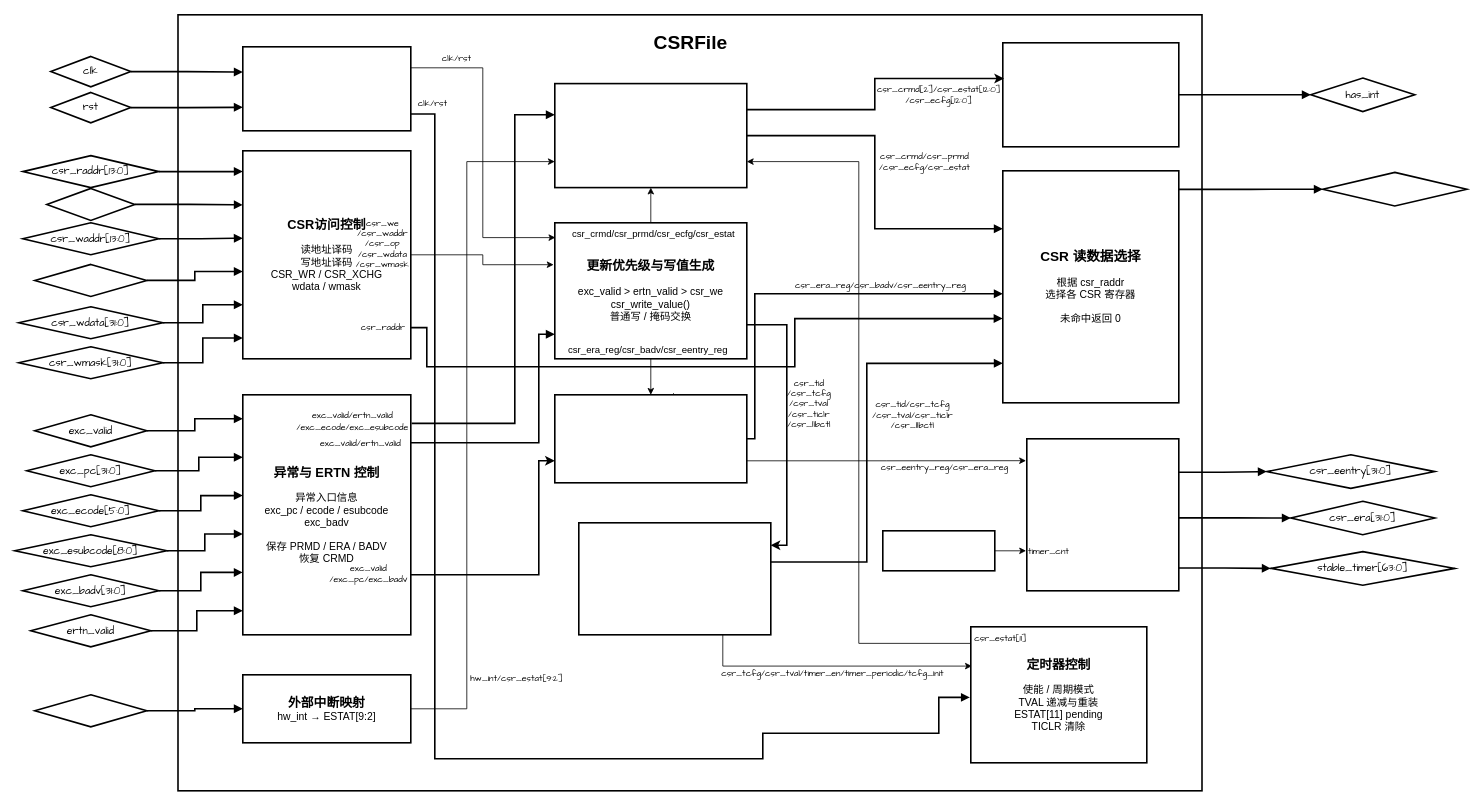
This 1481x805 diagram has some shape labels left out. Here are the shapes that lost their labels. From the top down, the box of each, then its label:
(242, 46, 411, 131): 时序与复位控制 时钟驱动 低有效复位
(1002, 42, 1179, 147): 中断判定 CRMD.IE ESTAT & ECFG
(554, 82, 747, 188): 模式与中断寄存器 CRMD / PRMD ECFG / ESTAT
(46, 187, 135, 221): csr_we
(1322, 171, 1467, 206): csr_rdata[31:0]
(34, 263, 147, 297): csr_op[1:0]
(554, 394, 747, 483): 异常相关寄存器 ERA / BADV / EENTRY
(1026, 438, 1179, 591): 专用输出路由 EENTRY ERA stable_timer
(882, 530, 995, 571): 64 位稳定计数器 timer_cnt
(578, 522, 771, 635): 定时器与其他寄存器 TID / TCFG / TVAL / TICLR LLBCTL
(34, 694, 147, 727): hw_int[7:0]
